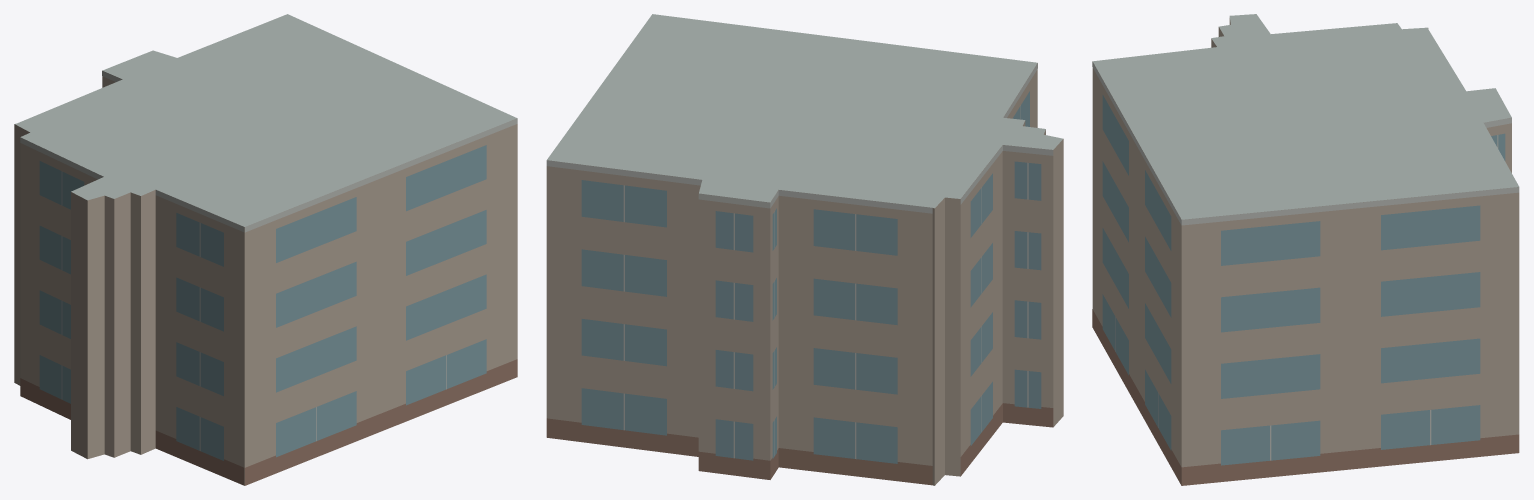
Rendered from survey-upis-32812529.glb.
3 renders of one model, left to right at view 1: azimuth 30°, elevation 25°; view 2: azimuth 150°, elevation 25°; view 3: azimuth 270°, elevation 25°, orthographic. The views are drawn at different scales.
Visible parts, largest first — view 1: survey-upis-32812529.tmp; view 2: survey-upis-32812529.tmp; view 3: survey-upis-32812529.tmp.
Part boxes in pixels (x1,y1,x2,y2): survey-upis-32812529.tmp: (14, 14, 517, 485); survey-upis-32812529.tmp: (546, 14, 1063, 485); survey-upis-32812529.tmp: (1092, 14, 1519, 485).
Bounding box in the file's own units: 18.87 × 11.37 × 16.54.
